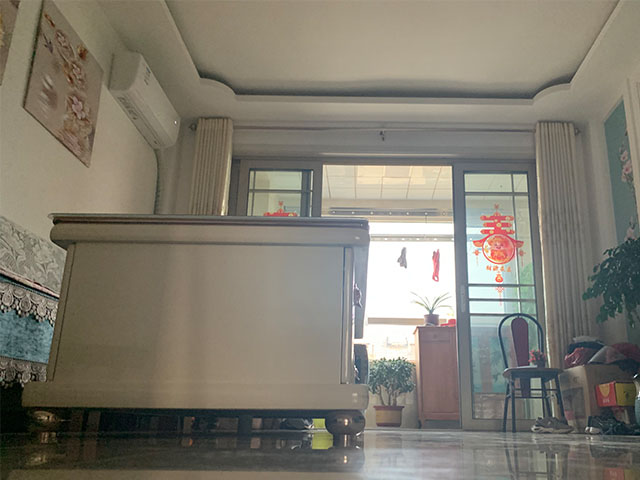cabinet: (411, 322, 461, 428)
curtain: (534, 121, 600, 425)
stool: (498, 312, 571, 434)
table: (20, 209, 372, 437)
